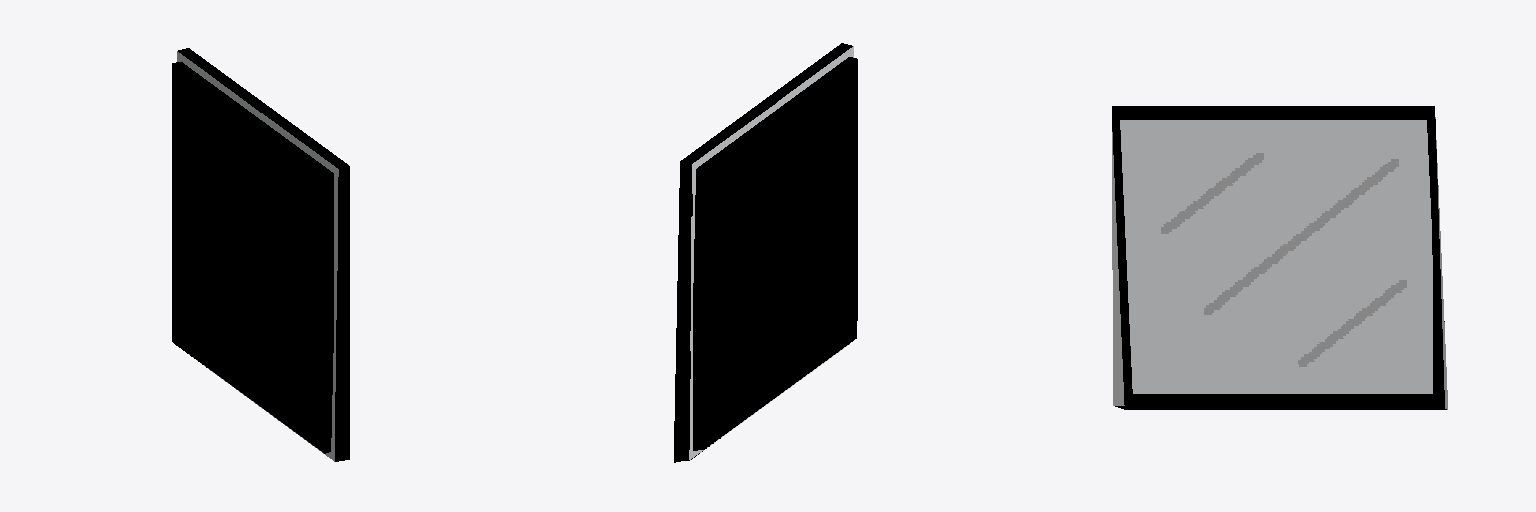
3 views of the same model, side by side, from view 1: azimuth 30°, elevation 25°; view 2: azimuth 150°, elevation 25°; view 3: azimuth 270°, elevation 25° (orthographic).
Visible parts, largest first — view 1: Cube; view 2: Cube; view 3: Cube.
Boxes of the visible parts, box(x1,y1,x2,y2) form: Cube: box(172, 48, 349, 461); Cube: box(674, 43, 857, 462); Cube: box(1112, 106, 1447, 409).
Size of the model in its own units: 0.4184 by 5.79 by 5.94.
1 materials, 1 textured.